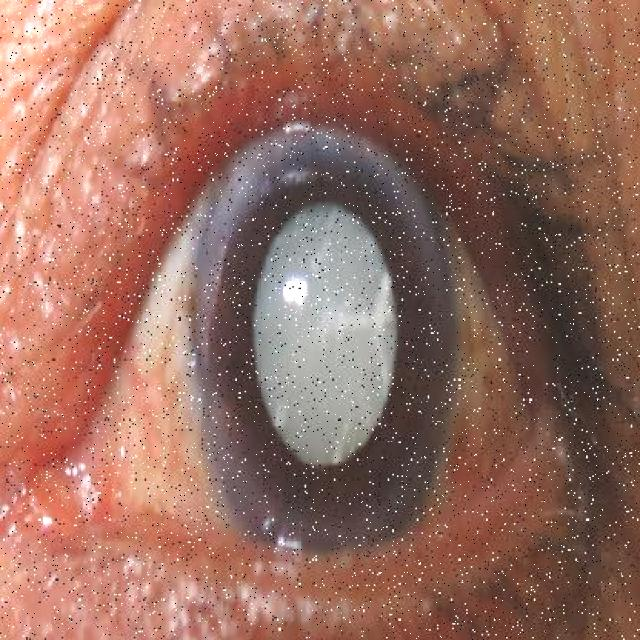Cataract: (200, 145, 465, 557)
